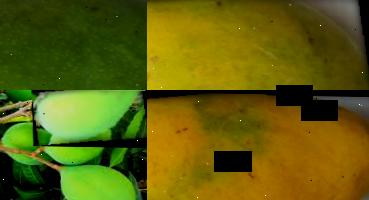PartiallyRipe: (147, 0, 369, 90)
Ripe: (147, 90, 369, 200)
Unripe: (0, 0, 147, 90), (31, 90, 147, 144)
